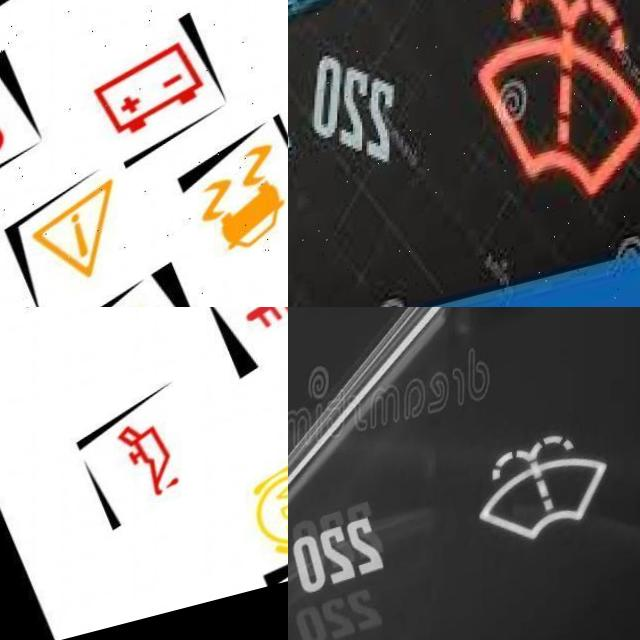Washer Fluid: (475, 0, 640, 241), (477, 450, 606, 576)
